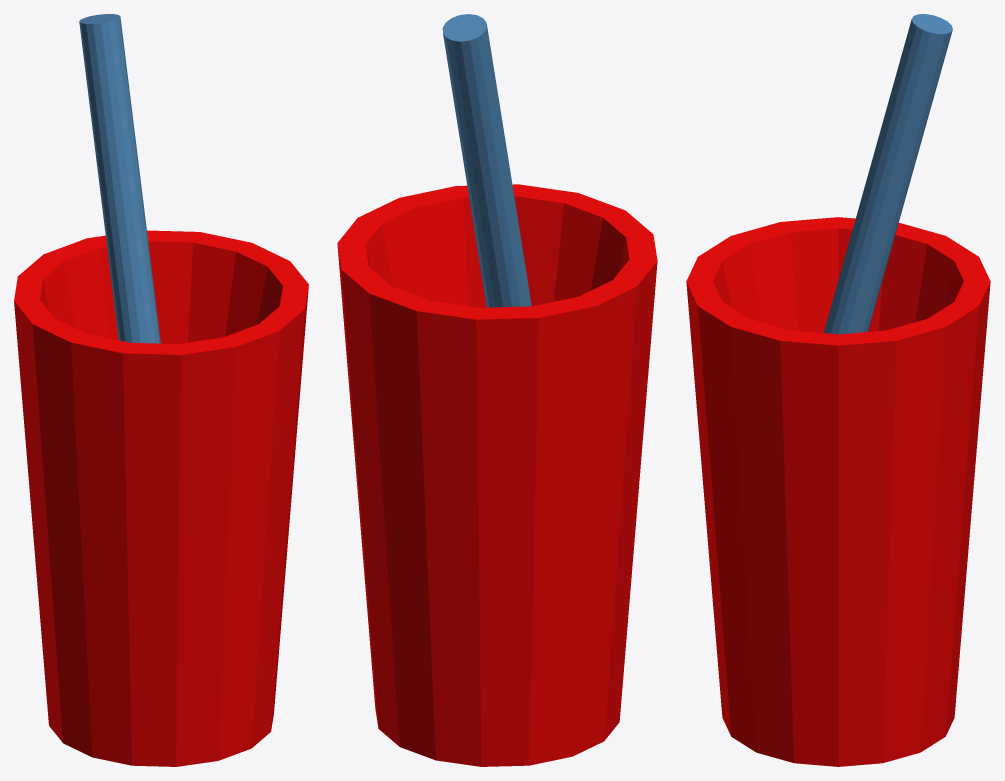
File: cola.fbx
3 renders of one model, left to right at view 1: azimuth 30°, elevation 25°; view 2: azimuth 150°, elevation 25°; view 3: azimuth 270°, elevation 25°, orthographic. The views are drawn at different scales.
Visible parts, largest first — view 1: Cylinder.001; view 2: Cylinder.001; view 3: Cylinder.001.
Boxes of the visible parts, x1,y1,x2,y2 form: Cylinder.001: [14, 14, 308, 766]; Cylinder.001: [337, 14, 657, 766]; Cylinder.001: [686, 14, 990, 766].
Bounding box in the file's own units: 39.41 × 98.71 × 39.41.
